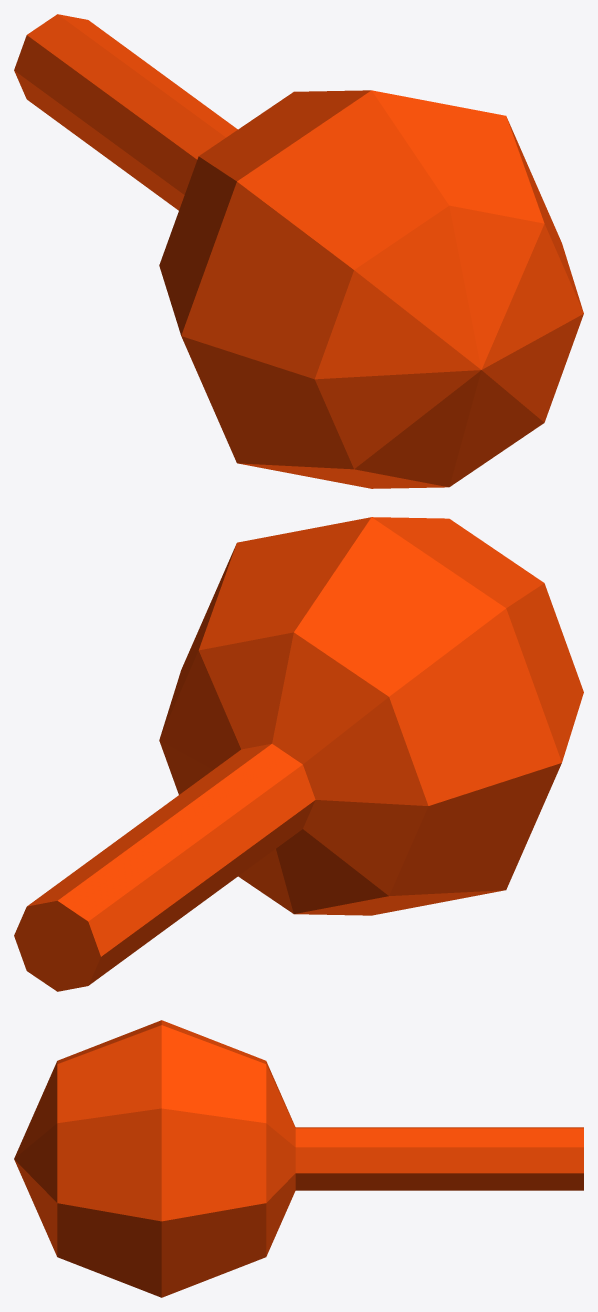
The model's file is fire_bloom.obj.
3 views of the same model, one above another, from view 1: azimuth 30°, elevation 25°; view 2: azimuth 150°, elevation 25°; view 3: azimuth 270°, elevation 25° (orthographic). The views are drawn at different scales.
Size of the model in its own units: 0.7 by 0.7 by 1.35.
